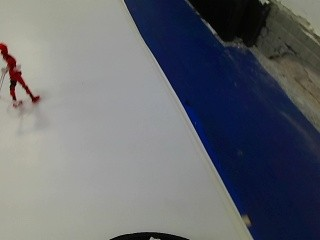pedestrian: (0, 39, 41, 104)
